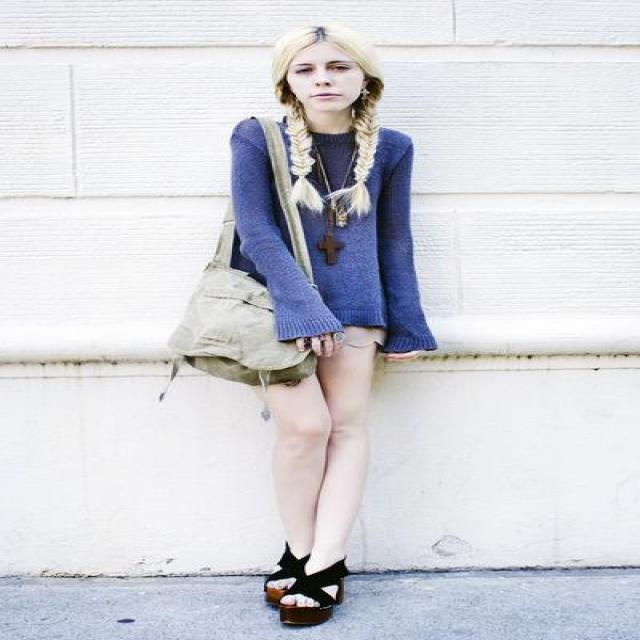bag: (160, 192, 325, 396)
jacket: (224, 117, 437, 354)
shoe: (213, 543, 357, 628)
shorts: (342, 328, 381, 357)
